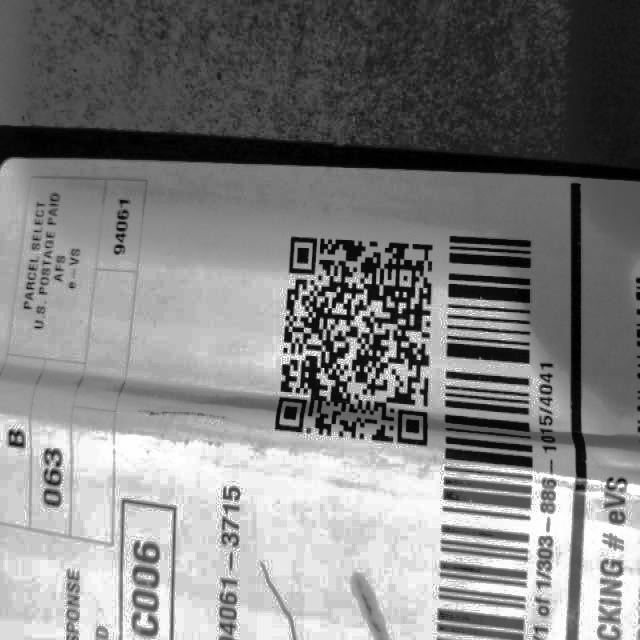qr_code: (266, 208, 436, 465)
